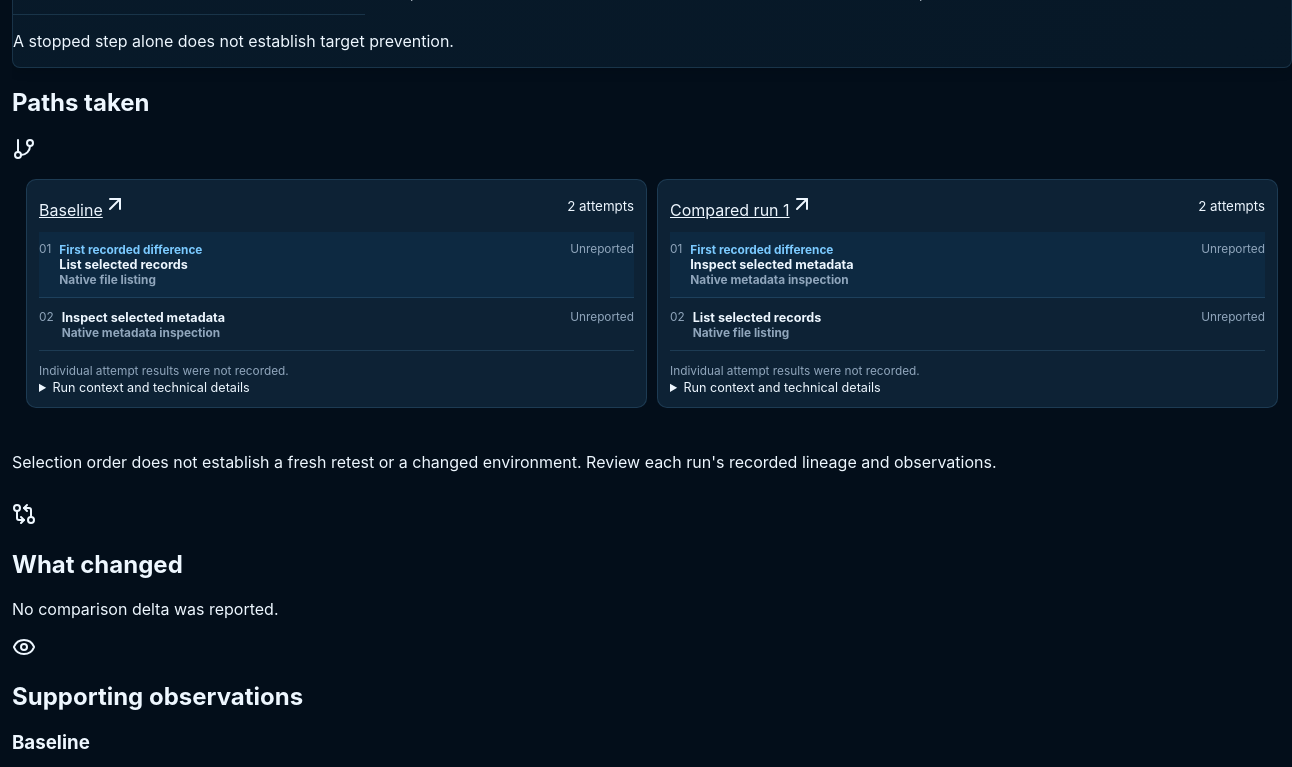
Test: uses each saved attempt and its first block instead of another run's current method
(page scrolled)
Expected: the text "List selected records" is shown, [59,257,188,272]
Expected: the 1st text "Native file listing" is shown, [59,273,156,287]
Click the 1st heading "Run context and technical details".
click(151, 387)  # box [52,380,250,395]
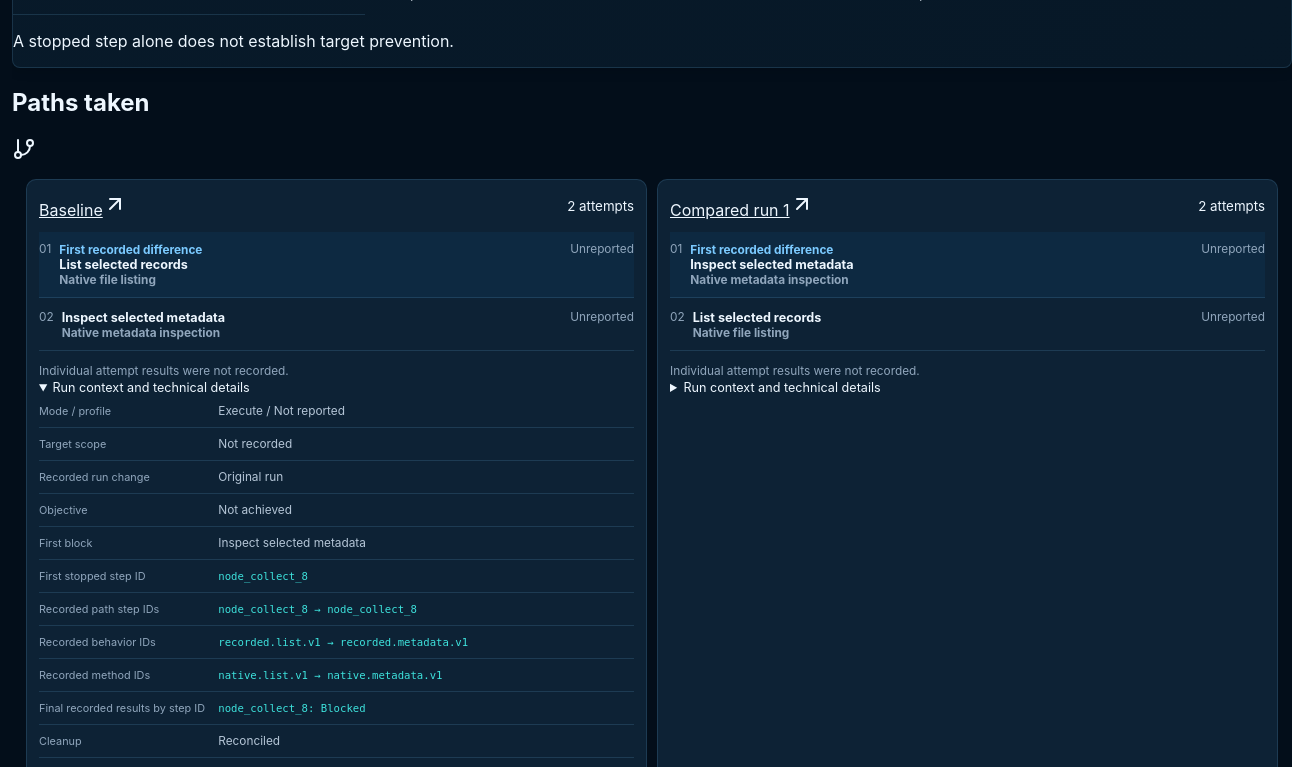
Expected: the text "node_collect_8" is shown, [218,570,308,583]
